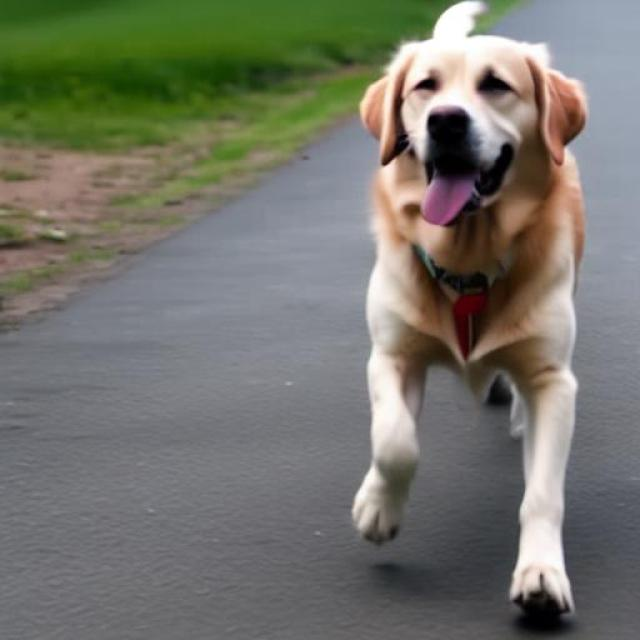Dog: (351, 2, 587, 620)
